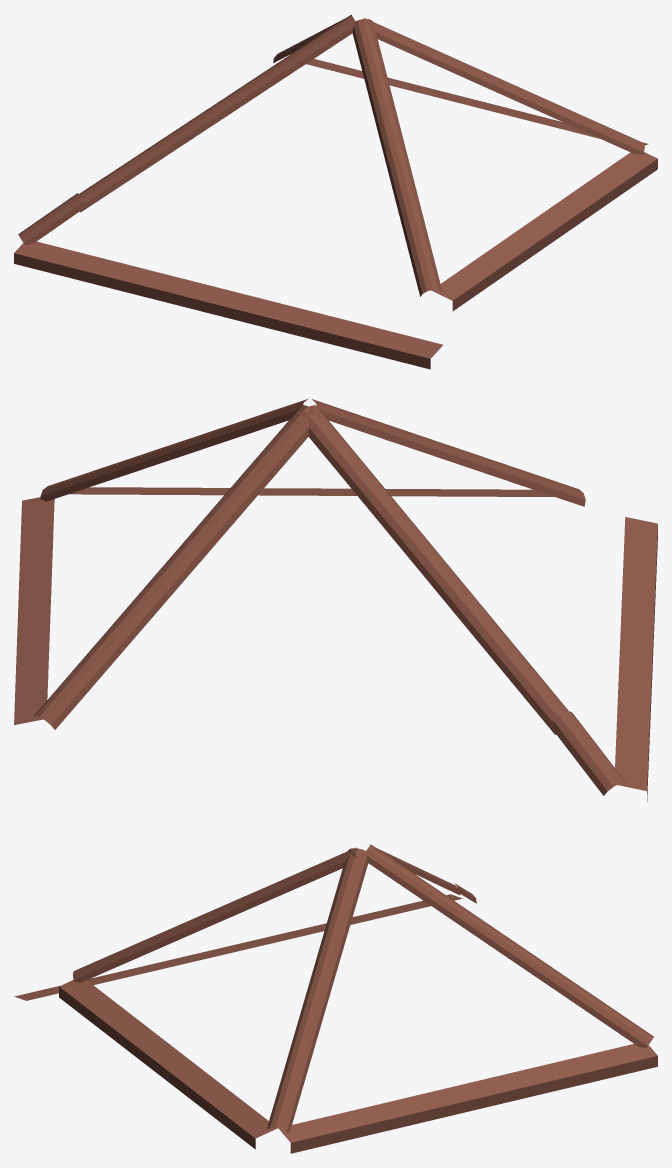
3 views of the same model, one above another, from view 1: azimuth 30°, elevation 25°; view 2: azimuth 150°, elevation 25°; view 3: azimuth 270°, elevation 25° (orthographic). The views are drawn at different scales.
Parts seen in each view (by area): view 1: detail; view 2: detail; view 3: detail.
Boxes of the visible parts, bbox=[...] form: detail: bbox=[14, 14, 657, 369]; detail: bbox=[14, 399, 657, 801]; detail: bbox=[14, 844, 657, 1153].
Size of the model in its own units: 8.2 by 2.99 by 7.98.
